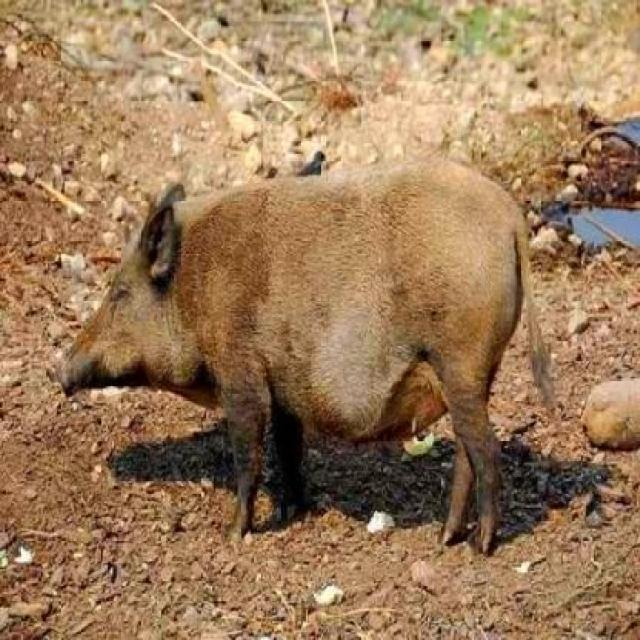Boar: (9, 156, 565, 550)
